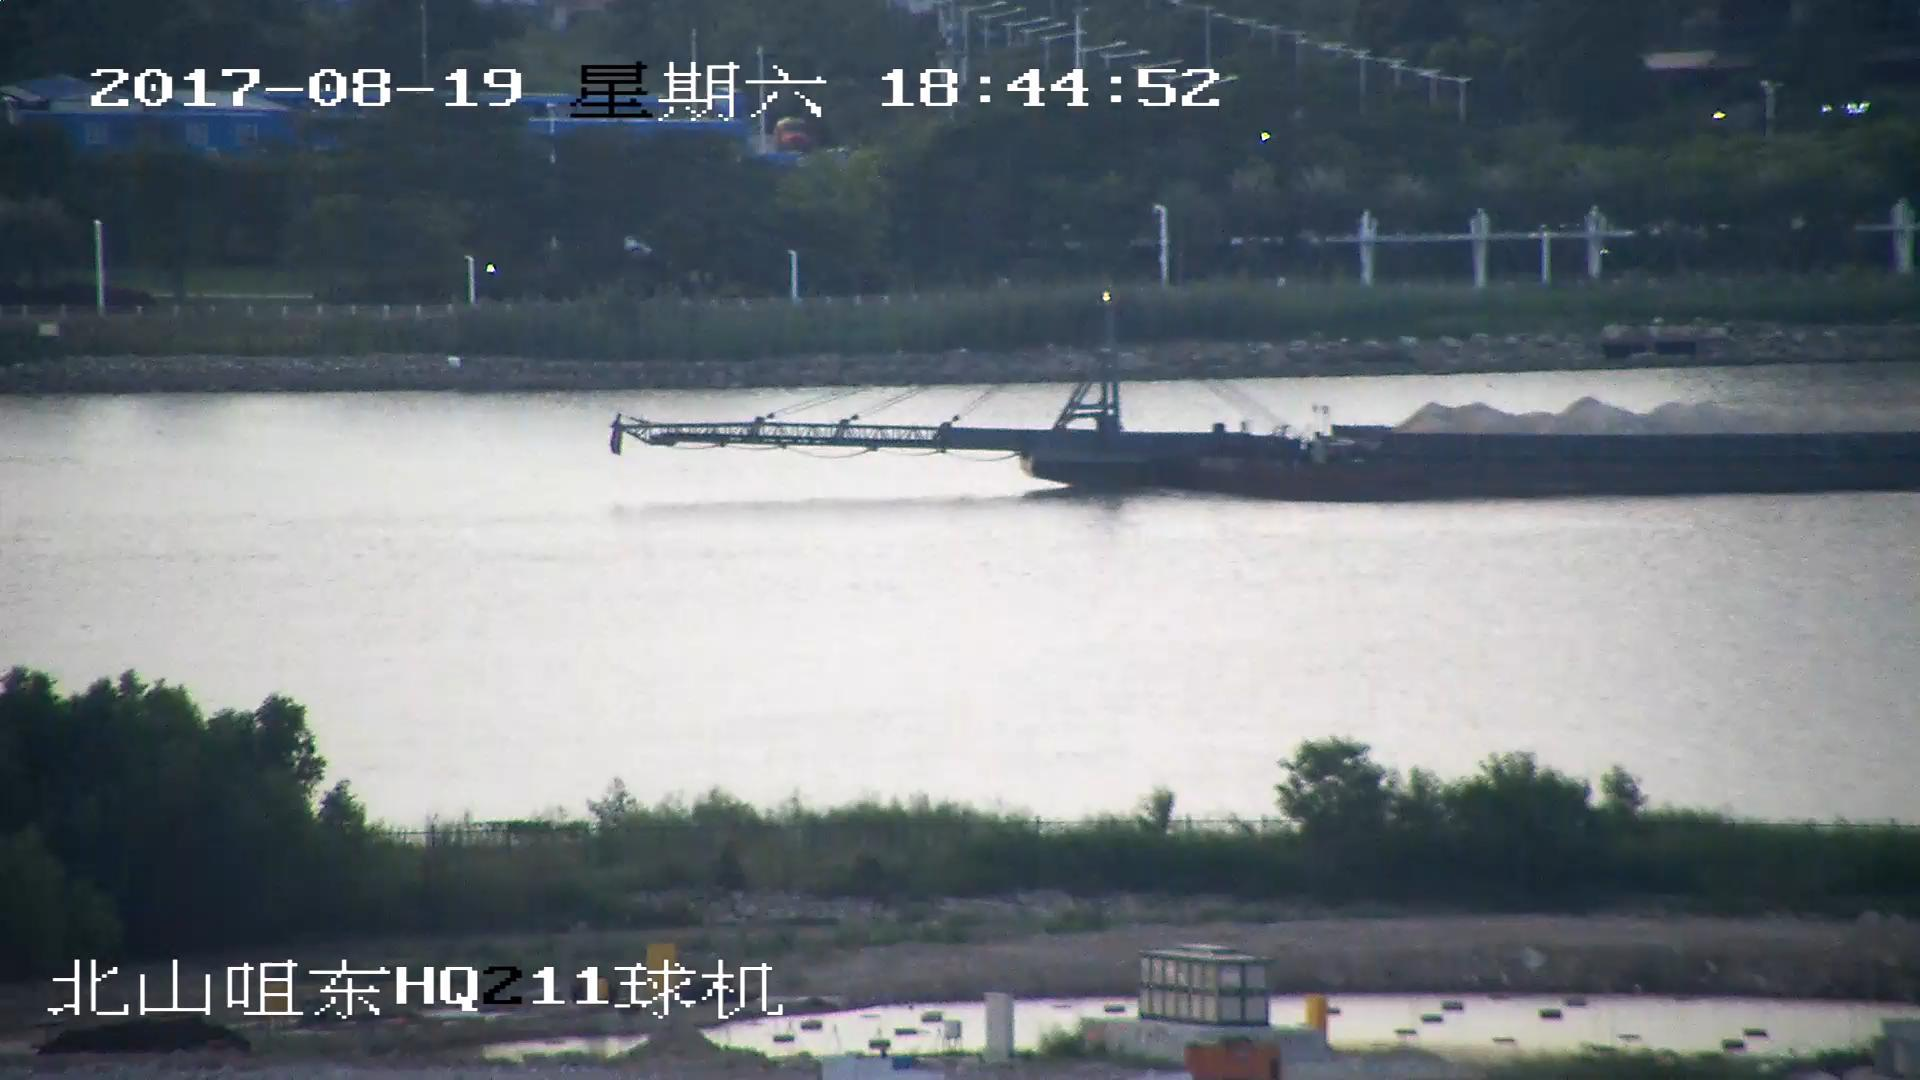Ship: (615, 290, 1920, 508)
